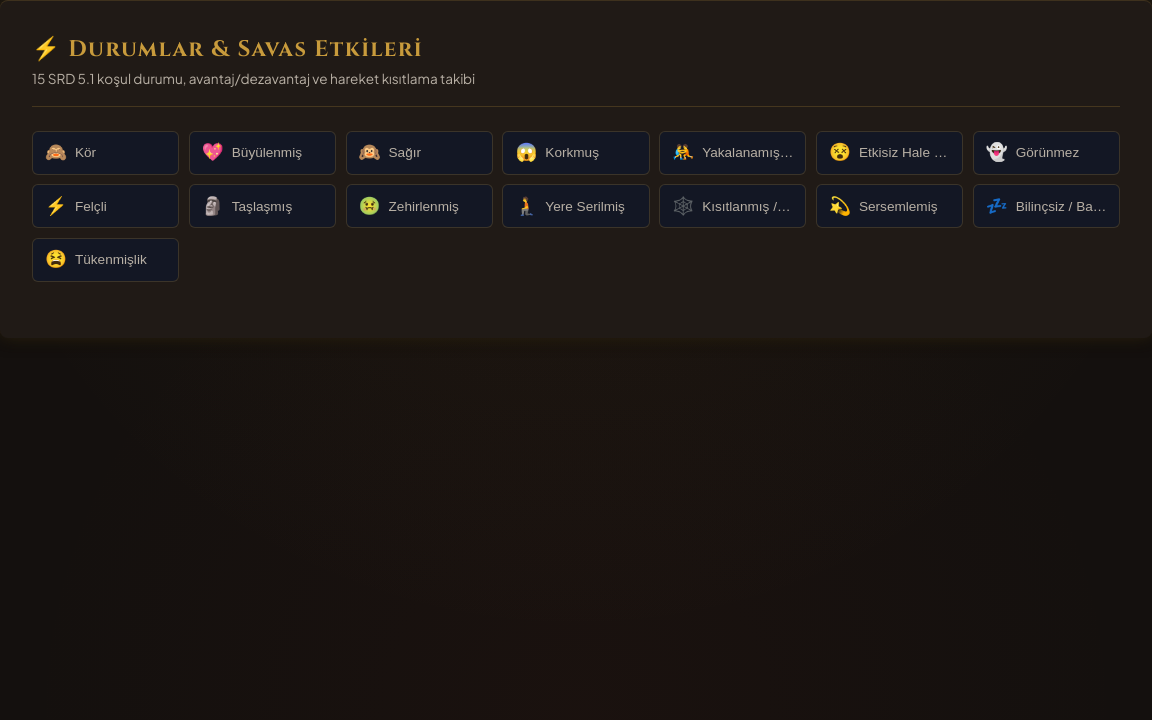
Scenario: ConditionsTracker Component › displays movement blocked alert when a speed-0 condition (e.g. Paralyzed) is active
The width and height of the screenshot is (1152, 720).
What coordinates should you click on to do the following:
click the button with aria-label "Felçli durumunu aç/kapat"
I would click on:
 (106, 206)
Its box is [32, 184, 179, 228].
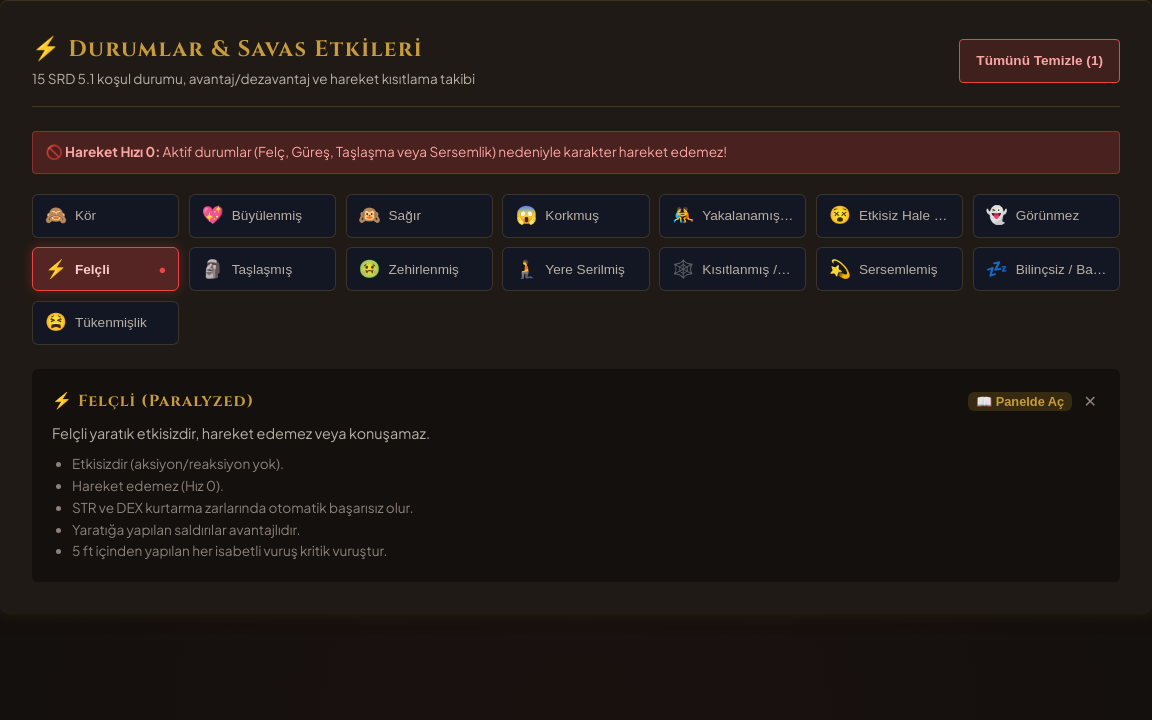
Expected: the text "Hareket Hızı 0:" is shown, [65, 143, 160, 160]
